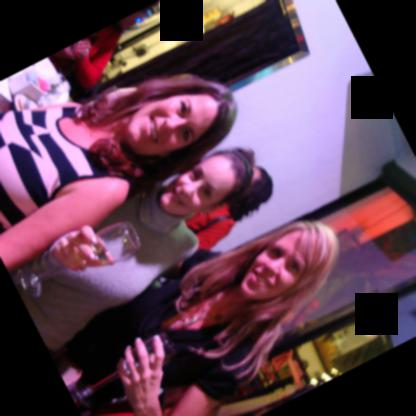handbag: (198, 215, 232, 230)
